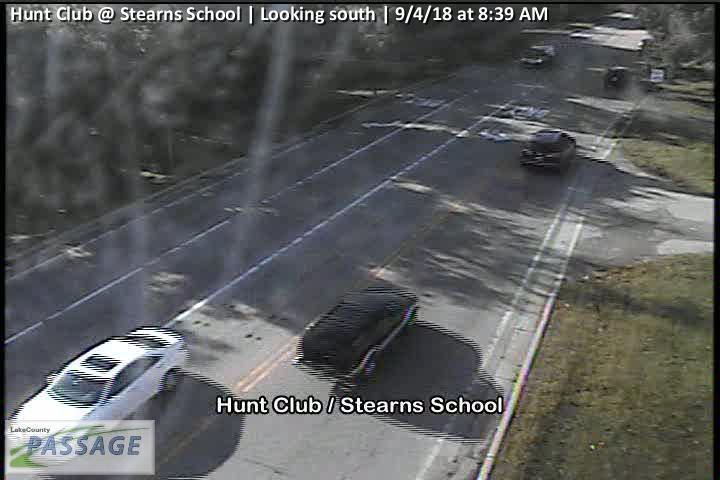Sedan: (5, 327, 187, 467), (299, 286, 418, 384), (519, 129, 577, 172), (603, 65, 633, 95), (520, 46, 556, 68)
